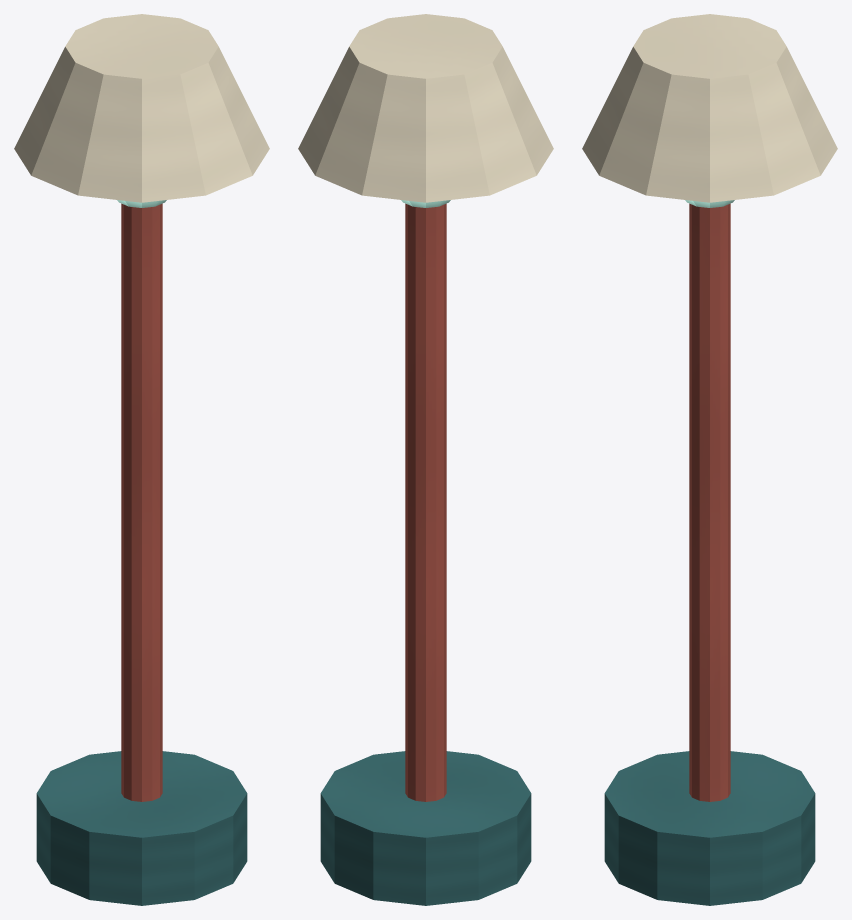
File: atlas100-porcelain-util01.glb
3 views of the same model, side by side, from view 1: azimuth 30°, elevation 25°; view 2: azimuth 150°, elevation 25°; view 3: azimuth 270°, elevation 25° (orthographic).
Parts seen in each view (by area): view 1: atlas100-porcelain-util01:part-002, atlas100-porcelain-util01:part-000, atlas100-porcelain-util01:part-001; view 2: atlas100-porcelain-util01:part-002, atlas100-porcelain-util01:part-000, atlas100-porcelain-util01:part-001; view 3: atlas100-porcelain-util01:part-002, atlas100-porcelain-util01:part-000, atlas100-porcelain-util01:part-001.
Part boxes in pixels (x1,y1,x2,y2): atlas100-porcelain-util01:part-002: [14, 14, 269, 202]; atlas100-porcelain-util01:part-000: [36, 751, 247, 905]; atlas100-porcelain-util01:part-001: [121, 203, 162, 801]; atlas100-porcelain-util01:part-002: [298, 14, 553, 202]; atlas100-porcelain-util01:part-000: [320, 751, 531, 905]; atlas100-porcelain-util01:part-001: [405, 203, 446, 801]; atlas100-porcelain-util01:part-002: [582, 14, 837, 202]; atlas100-porcelain-util01:part-000: [604, 751, 815, 905]; atlas100-porcelain-util01:part-001: [689, 203, 730, 801].
Size of the model in its own units: 0.7582 by 2.66 by 0.7582.
Materials: 4 (4 with a texture image).
